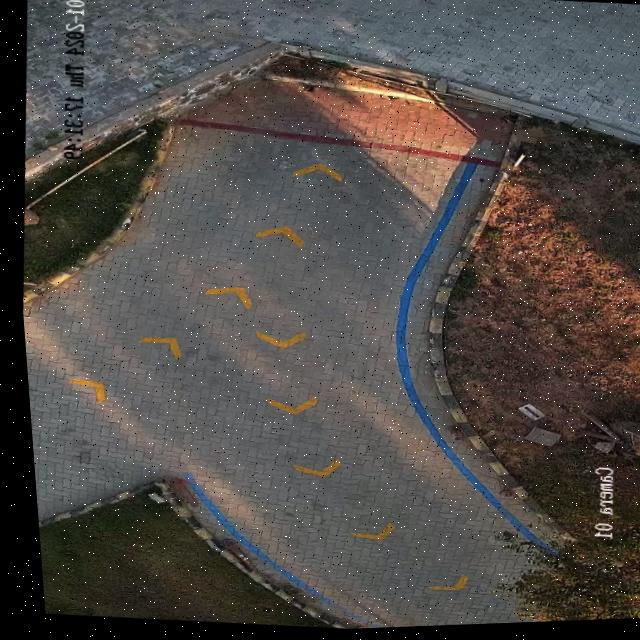No Car: (18, 0, 640, 631)
